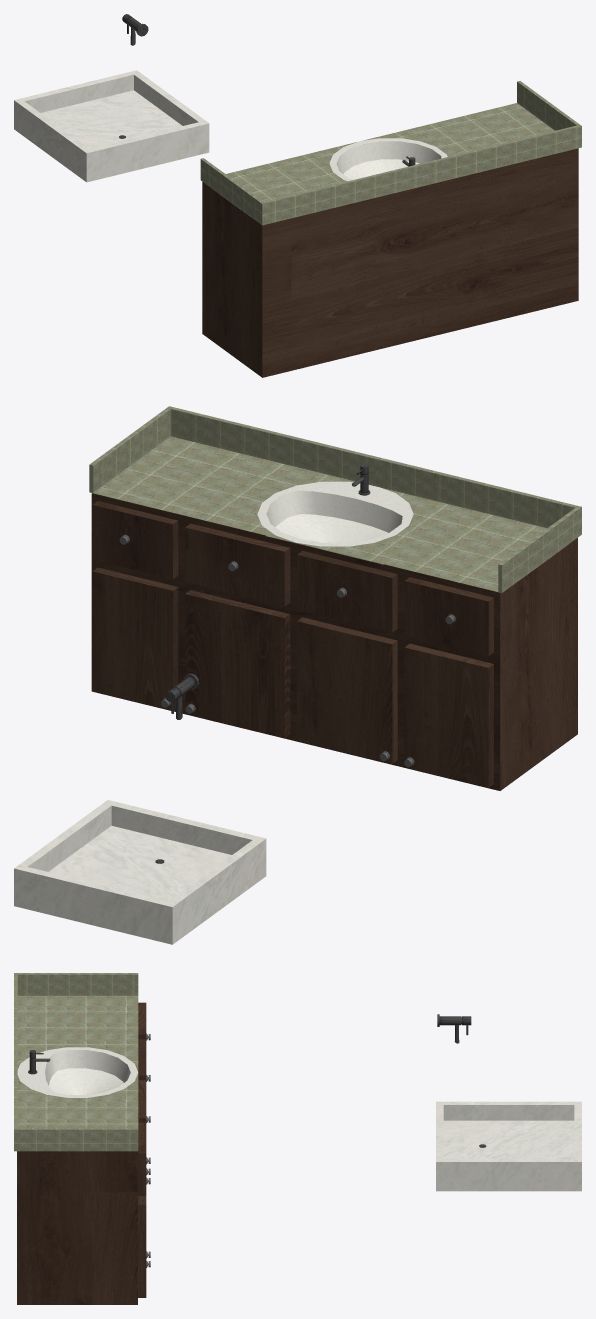
File: Sink-Bathtub.FBX
3 views of the same model, one above another, from view 1: azimuth 30°, elevation 25°; view 2: azimuth 150°, elevation 25°; view 3: azimuth 270°, elevation 25° (orthographic). The views are drawn at different scales.
Visible parts, largest first — view 1: Sink, Box003; view 2: Sink, Box003; view 3: Sink, Box003.
Part boxes in pixels (bbox=[...]): Sink: bbox=[200, 81, 581, 377]; Box003: bbox=[14, 14, 209, 182]; Sink: bbox=[89, 406, 581, 790]; Box003: bbox=[14, 673, 266, 944]; Sink: bbox=[14, 973, 150, 1304]; Box003: bbox=[436, 1014, 581, 1191].
Bounding box in the file's own units: 50.44 × 26.87 × 77.25.
6 materials, 6 textured.
